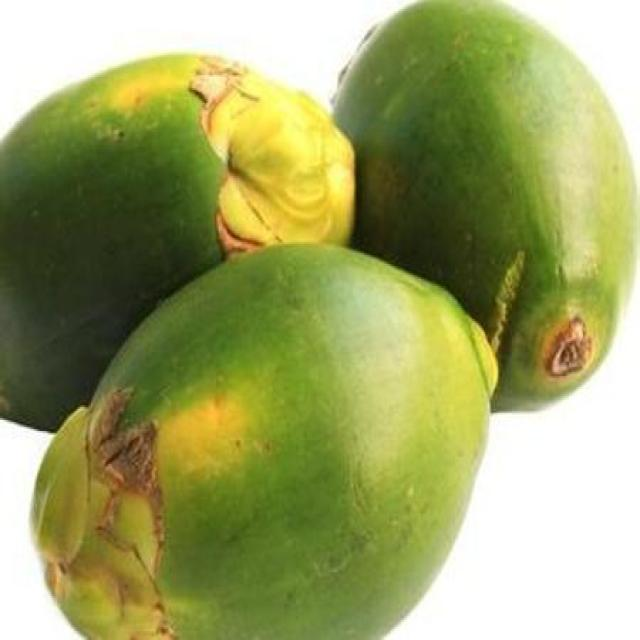good: (30, 246, 499, 638), (0, 53, 351, 433), (331, 0, 637, 414)
